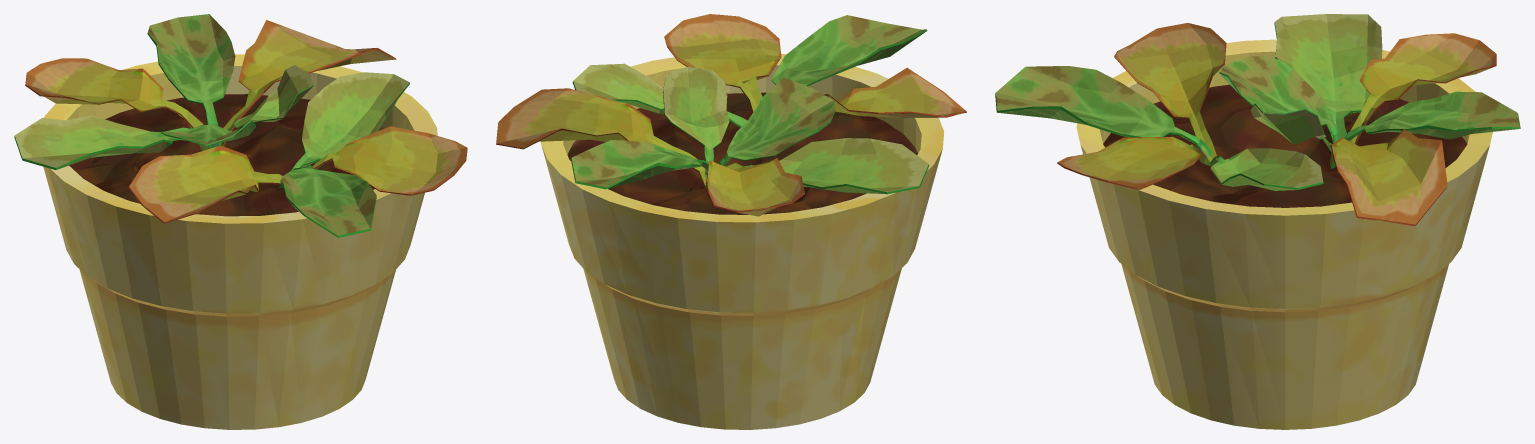
File: Bergenia_Horrible_End.glb
3 renders of one model, left to right at view 1: azimuth 30°, elevation 25°; view 2: azimuth 150°, elevation 25°; view 3: azimuth 270°, elevation 25°, orthographic. The views are drawn at different scales.
Visible parts, largest first — view 1: Pot, Plant; view 2: Pot, Plant; view 3: Pot, Plant.
Part boxes in pixels (left/top/right/bottom): Pot: left=43, top=54, right=437, bottom=429; Plant: left=14, top=14, right=467, bottom=237; Pot: left=540, top=53, right=943, bottom=429; Plant: left=496, top=14, right=966, bottom=216; Pot: left=1076, top=39, right=1492, bottom=429; Plant: left=995, top=14, right=1520, bottom=226.
Size of the model in its own units: 2.29 by 1.62 by 2.58.
Materials: 4 (4 with a texture image).
